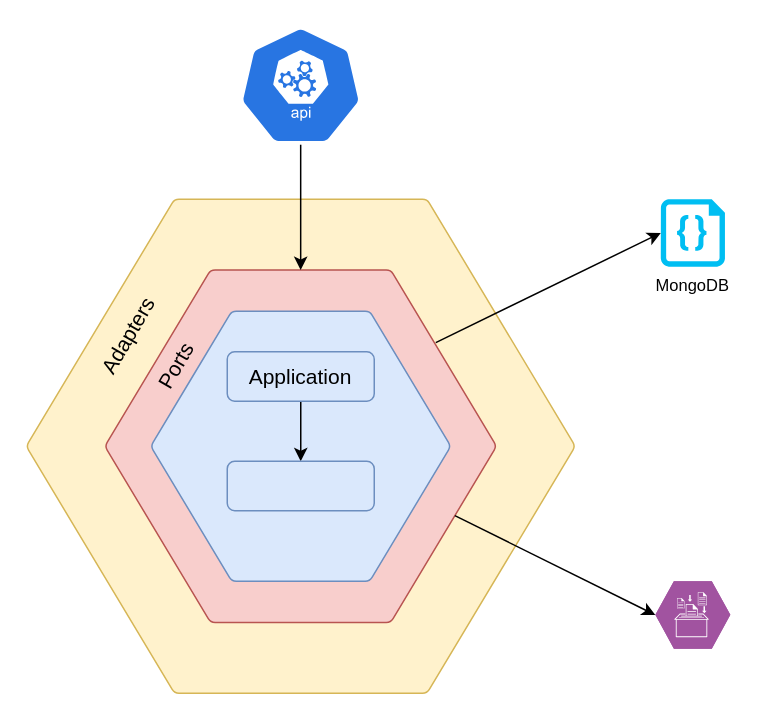
Some shapes in this 758 by 720 pixel diagram are drawn without their labels. Here are the shapes that lost their labels. From the top down, the centre of each, then its label:
At point (300, 485): "Domain".
At point (692, 614): "Logstash".
